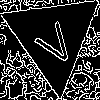V: (28, 13, 79, 70)
